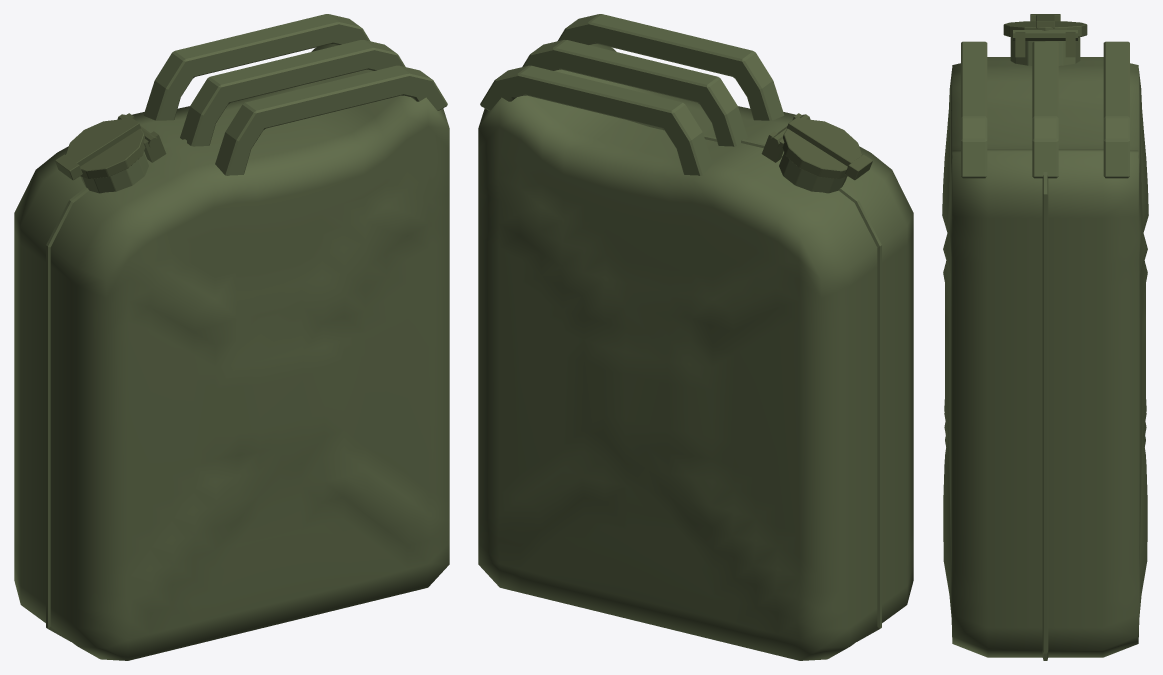
3 views of the same model, side by side, from view 1: azimuth 30°, elevation 25°; view 2: azimuth 150°, elevation 25°; view 3: azimuth 270°, elevation 25° (orthographic).
Visible parts, largest first — view 1: Closed_pressed_body_with_integral_ribs, Front_bridge_handle_with_open_underside, Rear_bridge_handle_with_open_underside, Center_bridge_handle_with_open_underside, Continuous_center_weld_flange, Closed_bayonet_cap_lid, Closed_cam_latch_bridge, Closed_sloped_filler_neck; view 2: Closed_pressed_body_with_integral_ribs, Rear_bridge_handle_with_open_underside, Front_bridge_handle_with_open_underside, Center_bridge_handle_with_open_underside, Continuous_center_weld_flange, Closed_bayonet_cap_lid, Closed_cam_latch_bridge, Closed_sloped_filler_neck; view 3: Closed_pressed_body_with_integral_ribs, Front_bridge_handle_with_open_underside, Rear_bridge_handle_with_open_underside, Center_bridge_handle_with_open_underside, Continuous_center_weld_flange, Closed_sloped_filler_neck, Closed_bayonet_cap_lid, Cap_hinge_axle.
Part boxes in pixels (left/top/right/bottom): Closed_pressed_body_with_integral_ribs: left=14, top=44, right=449, bottom=660; Front_bridge_handle_with_open_underside: left=215, top=65, right=447, bottom=175; Rear_bridge_handle_with_open_underside: left=143, top=14, right=370, bottom=120; Center_bridge_handle_with_open_underside: left=180, top=40, right=405, bottom=146; Continuous_center_weld_flange: left=46, top=70, right=373, bottom=641; Closed_bayonet_cap_lid: left=66, top=119, right=145, bottom=178; Closed_cam_latch_bridge: left=67, top=117, right=140, bottom=166; Closed_sloped_filler_neck: left=80, top=152, right=148, bottom=193; Closed_pressed_body_with_integral_ribs: left=478, top=44, right=913, bottom=660; Rear_bridge_handle_with_open_underside: left=480, top=65, right=712, bottom=175; Front_bridge_handle_with_open_underside: left=557, top=14, right=784, bottom=120; Center_bridge_handle_with_open_underside: left=522, top=40, right=747, bottom=146; Continuous_center_weld_flange: left=554, top=70, right=881, bottom=641; Closed_bayonet_cap_lid: left=782, top=119, right=861, bottom=178; Closed_cam_latch_bridge: left=787, top=117, right=860, bottom=166; Closed_sloped_filler_neck: left=779, top=152, right=847, bottom=193; Closed_pressed_body_with_integral_ribs: left=942, top=57, right=1148, bottom=657; Front_bridge_handle_with_open_underside: left=961, top=41, right=987, bottom=178; Rear_bridge_handle_with_open_underside: left=1103, top=41, right=1129, bottom=178; Center_bridge_handle_with_open_underside: left=1032, top=41, right=1058, bottom=178; Continuous_center_weld_flange: left=1042, top=172, right=1048, bottom=660; Closed_sloped_filler_neck: left=1010, top=37, right=1080, bottom=65; Closed_bayonet_cap_lid: left=1003, top=21, right=1087, bottom=37; Cap_hinge_axle: left=1013, top=30, right=1077, bottom=40.
Bounding box in the file's own units: 0.345 × 0.468 × 0.165.
